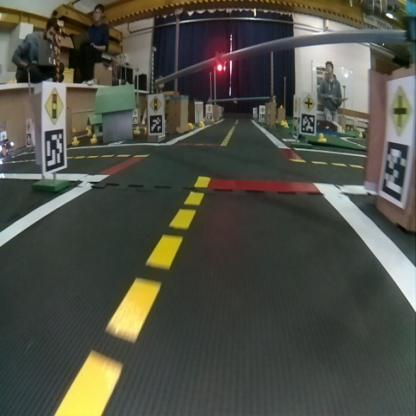Duckie: (318, 133, 326, 142), (71, 135, 78, 144), (90, 134, 97, 142), (187, 121, 193, 128)
Intersection sign: (386, 83, 413, 136), (302, 93, 314, 111)
QR code: (381, 139, 409, 203), (43, 128, 64, 169), (300, 112, 315, 132), (149, 115, 162, 132)
Signal sign: (43, 86, 63, 122), (148, 94, 161, 112)
Traffic light: (214, 51, 226, 71)
